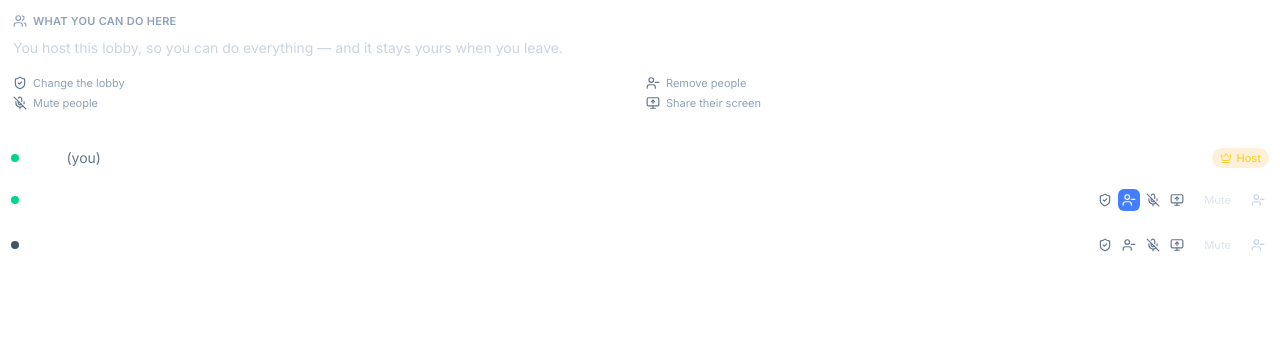
Test: removing somebody › asks before it does it
Step 1. Click the button named "remove nigar" → [1258, 245], box [1247,234,1269,256]
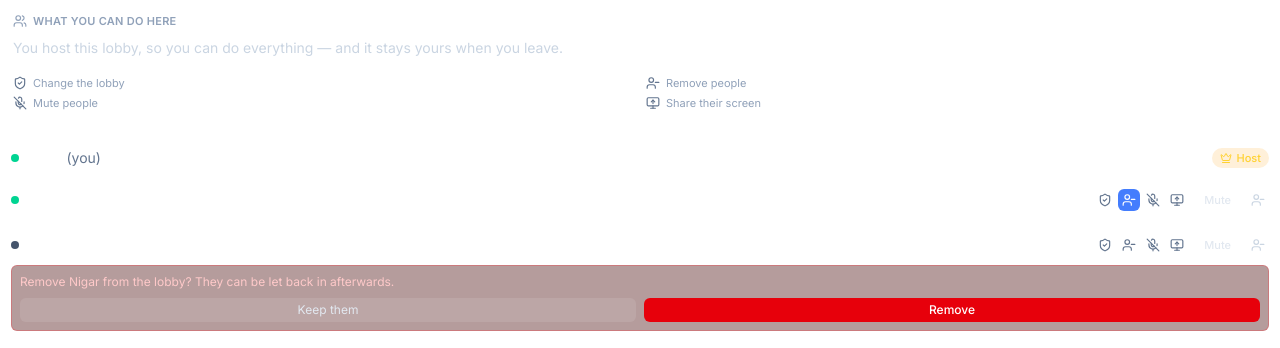
Expected: the text "Remove Nigar from the lobby?" is shown, [20,274,394,289]
